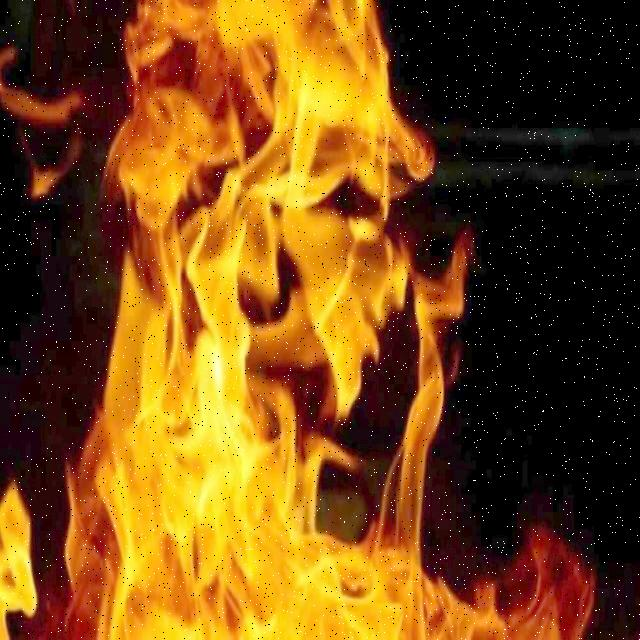fire: (112, 4, 414, 640), (477, 520, 605, 640), (1, 471, 42, 636)
